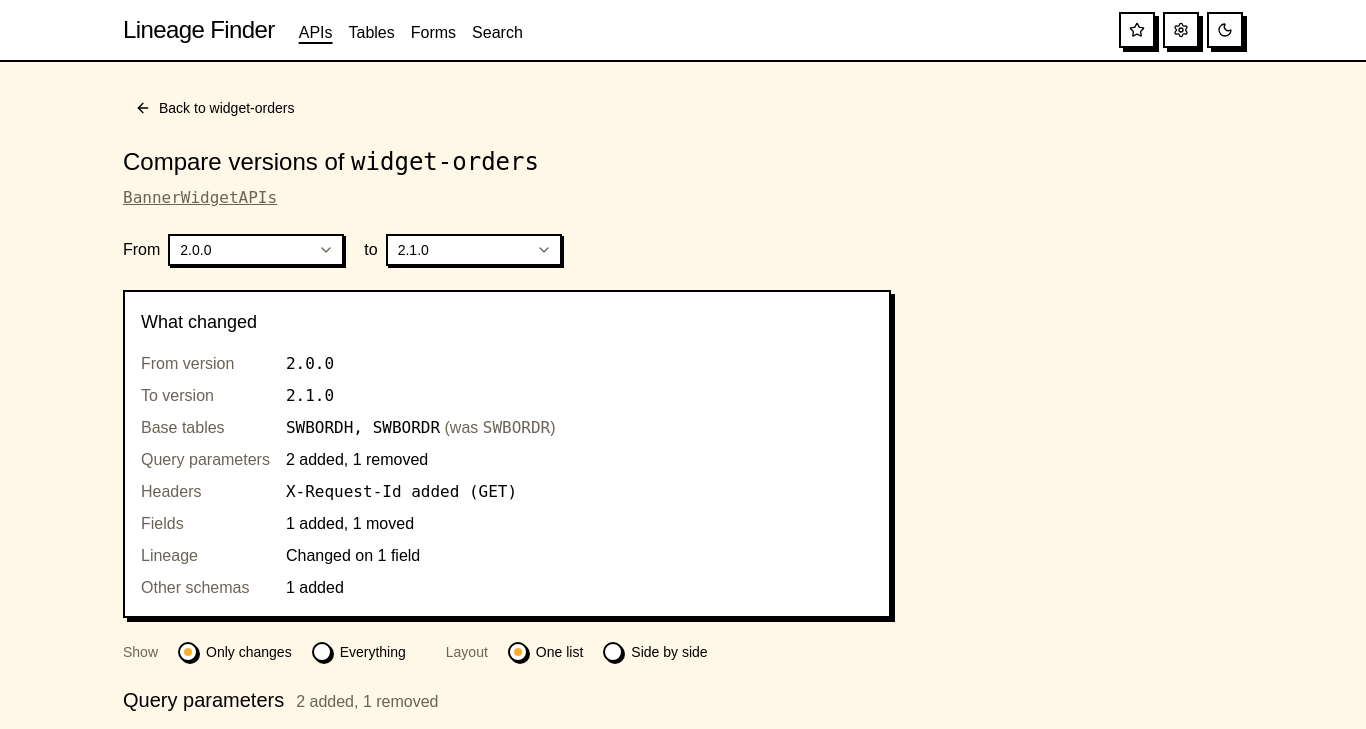
Scenario: query parameters › under Everything, shows unchanged ones too and a header written differently
Check: the text "termCode" is not shown
Click the radio button labelled "Everything".
click(373, 652)  # box [340,645,406,659]
(page scrolled)
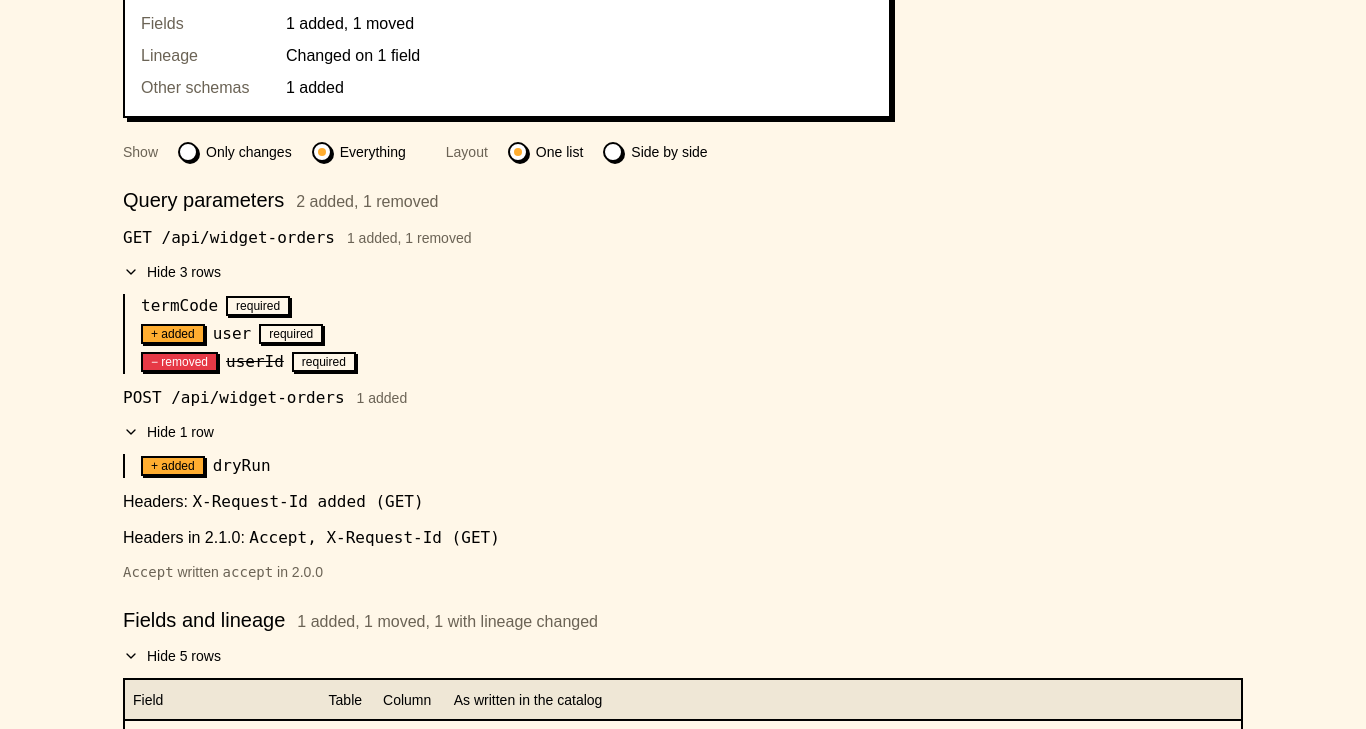
Check: the element that starts with "Query parameters" shows "termCode", box [141,296,218,315]
Check: the element that starts with "Query parameters" shows "Headers in 2.1.0: Accept, X-Request-Id (GET)", box [123,186,1243,582]
Check: the element that starts with "Query parameters" shows "Accept written accept in 2.0.0", box [123,186,1243,582]
